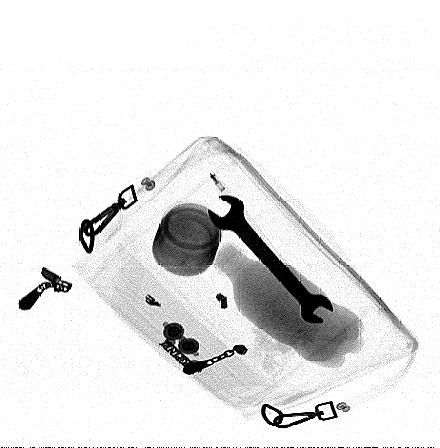Wrench: (209, 193, 335, 324)
